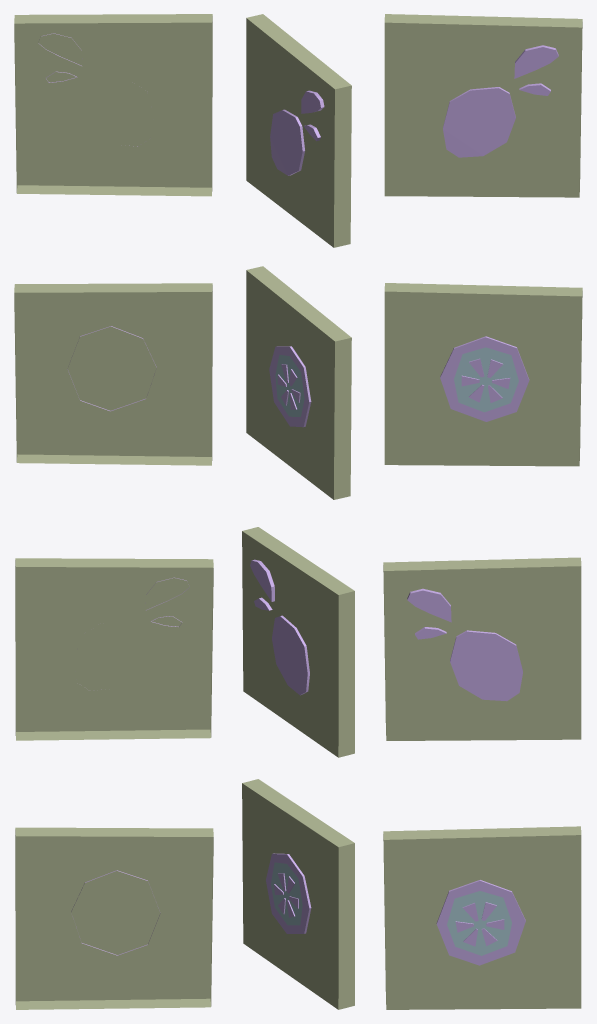
File: Kitchen_2_Pictures.fbx
3 views of the same model, side by side, from view 1: azimuth 90°, elevation 25°; view 2: azimuth 210°, elevation 25°; view 3: azimuth 270°, elevation 25° (orthographic). The views are drawn at different scales.
Parts seen in each view (by area): view 1: Kitchen_2_Pictures; view 2: Kitchen_2_Pictures; view 3: Kitchen_2_Pictures.
Part boxes in pixels (left/top/right/bottom): Kitchen_2_Pictures: left=14, top=14, right=213, bottom=1009; Kitchen_2_Pictures: left=242, top=14, right=354, bottom=1009; Kitchen_2_Pictures: left=383, top=14, right=582, bottom=1009.
Size of the model in its own units: 4.6 by 173 by 31.73.
